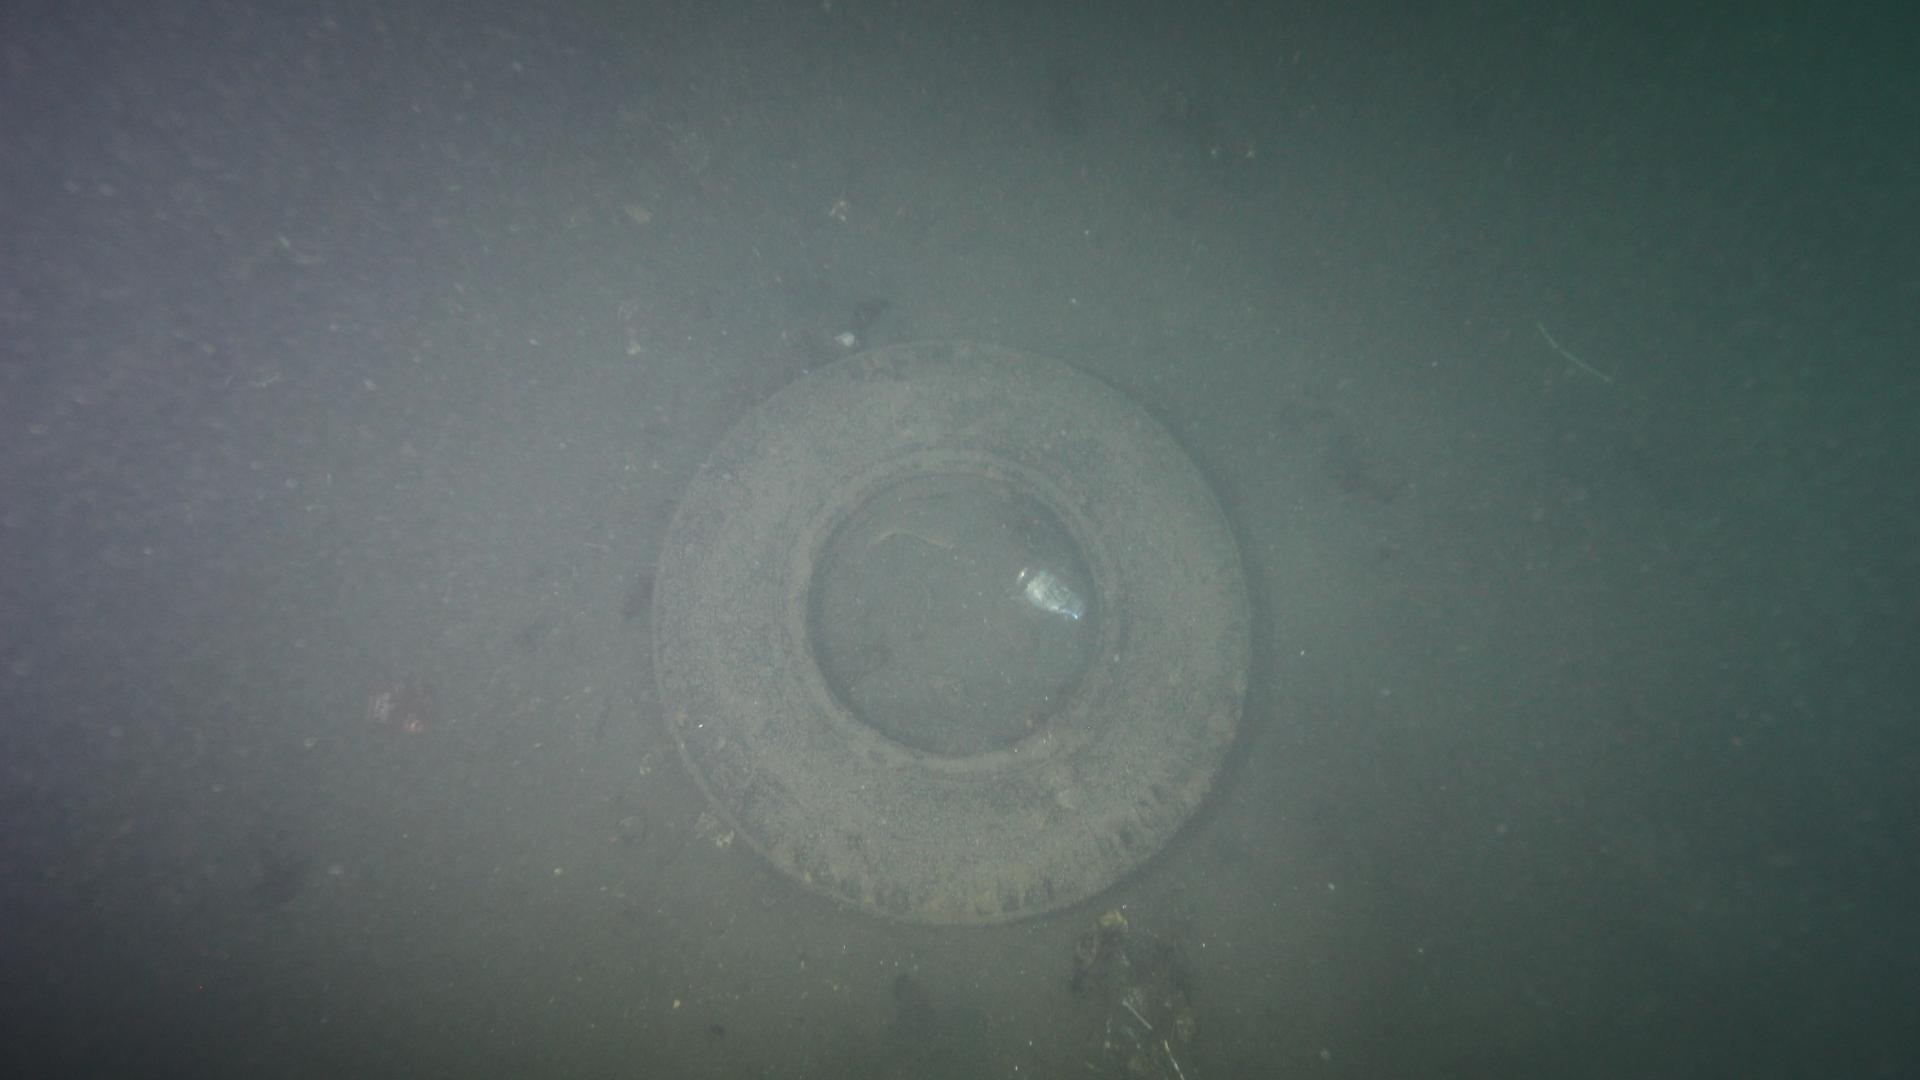tire: (642, 338, 1257, 926)
